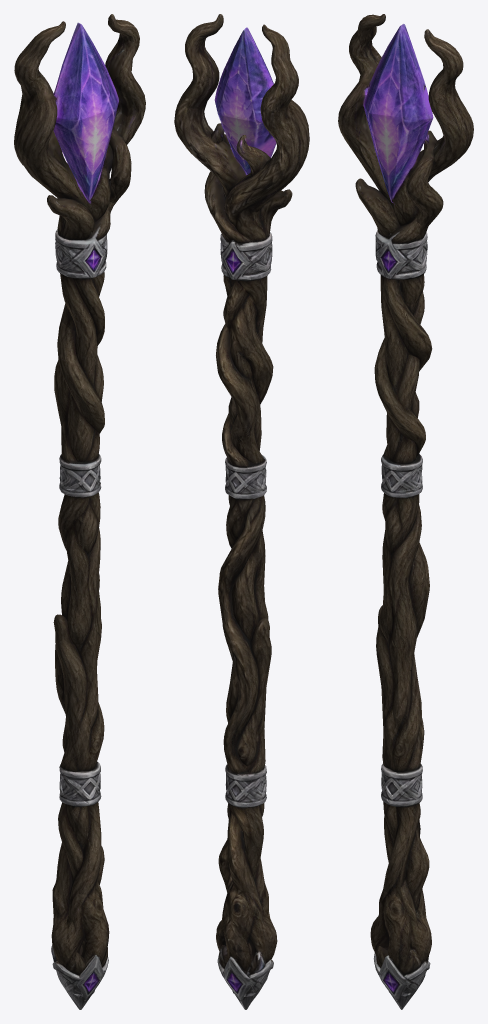
The model's file is staff.glb.
3 renders of one model, left to right at view 1: azimuth 30°, elevation 25°; view 2: azimuth 150°, elevation 25°; view 3: azimuth 330°, elevation 25°, orthographic.
Visible parts, largest first — view 1: output_unwrapped; view 2: output_unwrapped; view 3: output_unwrapped.
Boxes of the visible parts, x1=… form: output_unwrapped: x1=14, y1=14, x2=145, y2=1009; output_unwrapped: x1=174, y1=14, x2=309, y2=1009; output_unwrapped: x1=338, y1=14, x2=473, y2=1009.
Bounding box in the file's own units: 0.2096 × 1.6 × 0.1039.
Materials: 1 (1 with a texture image).
